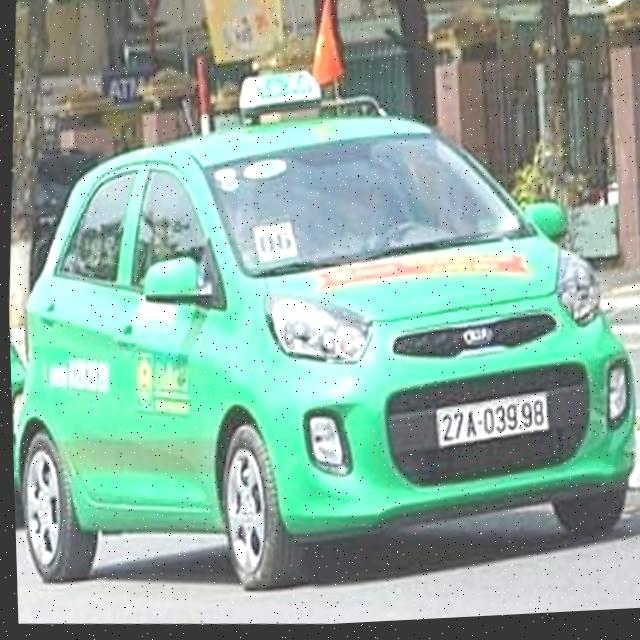car: (3, 76, 640, 630)
plate: (425, 382, 558, 457)
